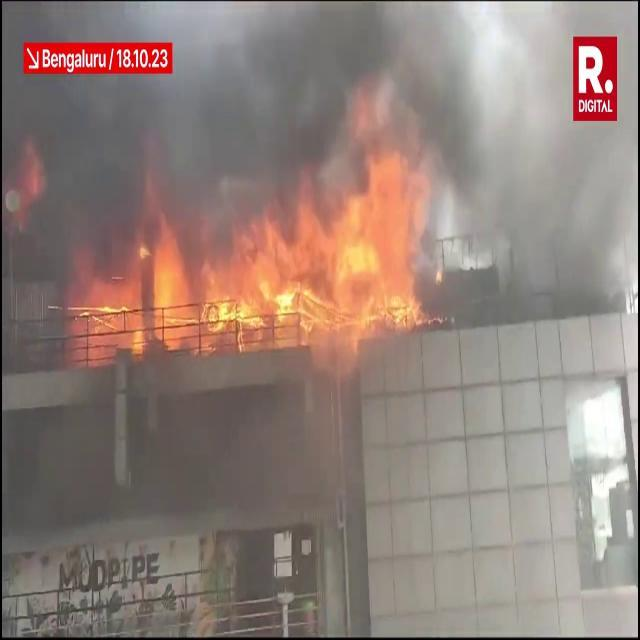Fire: (80, 240, 433, 340)
Smoke: (12, 4, 510, 238)
